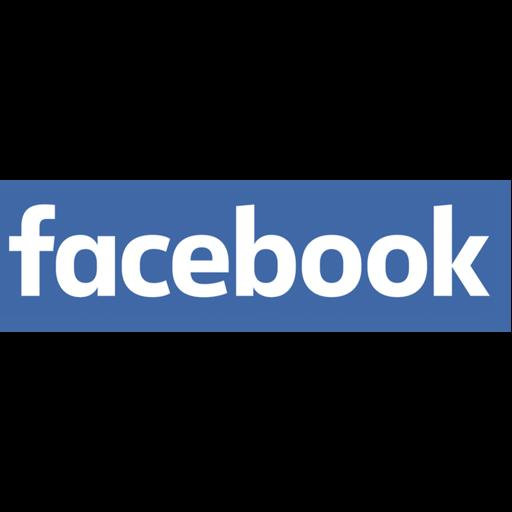Facebook: (0, 180, 511, 332)
